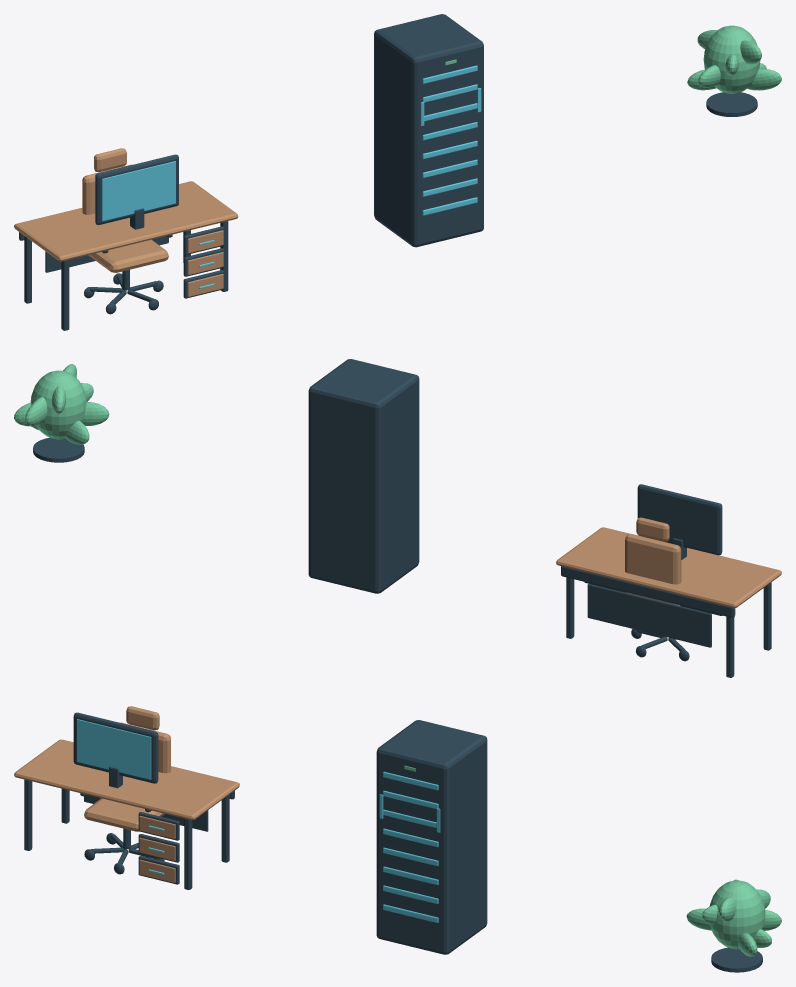
File: studio-kit.glb
3 renders of one model, top to bottom at view 1: azimuth 30°, elevation 25°; view 2: azimuth 150°, elevation 25°; view 3: azimuth 330°, elevation 25°, orthographic.
Visible parts, largest first — view 1: SM_ServerRack_A, SM_DeskTop_A, SM_MonitorScreen_A, SM_AgentOrb_A, SM_ChairSeat_A, SM_Monitor_A, SM_PlantRim_A, SM_DeskLeg_A, SM_ChairHeadrest_A, SM_ChairBack_A, SM_DeskModesty_A, SM_DeskDrawerFace_A (+2 smaller); view 2: SM_ServerRack_A, SM_DeskTop_A, SM_DeskModesty_A, SM_Monitor_A, SM_ChairBack_A, SM_AgentOrb_A, SM_DeskApron_A, SM_PlantRim_A, SM_ChairHeadrest_A, SM_DeskLeg_A; view 3: SM_ServerRack_A, SM_DeskTop_A, SM_MonitorScreen_A, SM_AgentOrb_A, SM_Monitor_A, SM_ChairSeat_A, SM_PlantRim_A, SM_DeskLeg_A.002, SM_DeskLeg_A, SM_ChairHeadrest_A, SM_DeskLeg_A.003, SM_ChairBack_A (+4 smaller).
Part boxes in pixels (left/top/right/bottom): SM_ServerRack_A: left=374, top=14, right=483, bottom=247; SM_DeskTop_A: left=14, top=181, right=238, bottom=261; SM_MonitorScreen_A: left=102, top=161, right=175, bottom=221; SM_AgentOrb_A: left=703, top=25, right=760, bottom=93; SM_ChairSeat_A: left=88, top=239, right=168, bottom=272; SM_Monitor_A: left=95, top=154, right=178, bottom=224; SM_PlantRim_A: left=706, top=92, right=757, bottom=116; SM_DeskLeg_A: left=61, top=260, right=69, bottom=330; SM_ChairHeadrest_A: left=94, top=148, right=126, bottom=172; SM_ChairBack_A: left=82, top=164, right=132, bottom=214; SM_DeskModesty_A: left=45, top=236, right=168, bottom=272; SM_DeskDrawerFace_A: left=187, top=274, right=223, bottom=296; SM_ServerRack_A: left=308, top=359, right=419, bottom=593; SM_DeskTop_A: left=556, top=527, right=781, bottom=608; SM_DeskModesty_A: left=587, top=584, right=711, bottom=647; SM_Monitor_A: left=637, top=484, right=722, bottom=555; SM_ChairBack_A: left=625, top=534, right=681, bottom=605; SM_AgentOrb_A: left=30, top=370, right=86, bottom=439; SM_DeskApron_A: left=561, top=566, right=735, bottom=617; SM_PlantRim_A: left=33, top=437, right=84, bottom=462; SM_ChairHeadrest_A: left=636, top=517, right=669, bottom=541; SM_DeskLeg_A: left=763, top=582, right=771, bottom=650; SM_ServerRack_A: left=376, top=720, right=487, bottom=954; SM_DeskTop_A: left=14, top=739, right=239, bottom=820; SM_MonitorScreen_A: left=77, top=719, right=151, bottom=779; SM_AgentOrb_A: left=709, top=880, right=765, bottom=949; SM_Monitor_A: left=73, top=712, right=158, bottom=783; SM_ChairSeat_A: left=84, top=798, right=164, bottom=831; SM_PlantRim_A: left=711, top=947, right=762, bottom=972; SM_DeskLeg_A.002: left=184, top=818, right=192, bottom=889; SM_DeskLeg_A: left=24, top=779, right=32, bottom=850; SM_ChairHeadrest_A: left=126, top=706, right=159, bottom=730; SM_DeskLeg_A.003: left=221, top=794, right=229, bottom=862; SM_ChairBack_A: left=120, top=722, right=170, bottom=773.
Size of the model in its own units: 7.72 by 1.92 by 0.9313.
